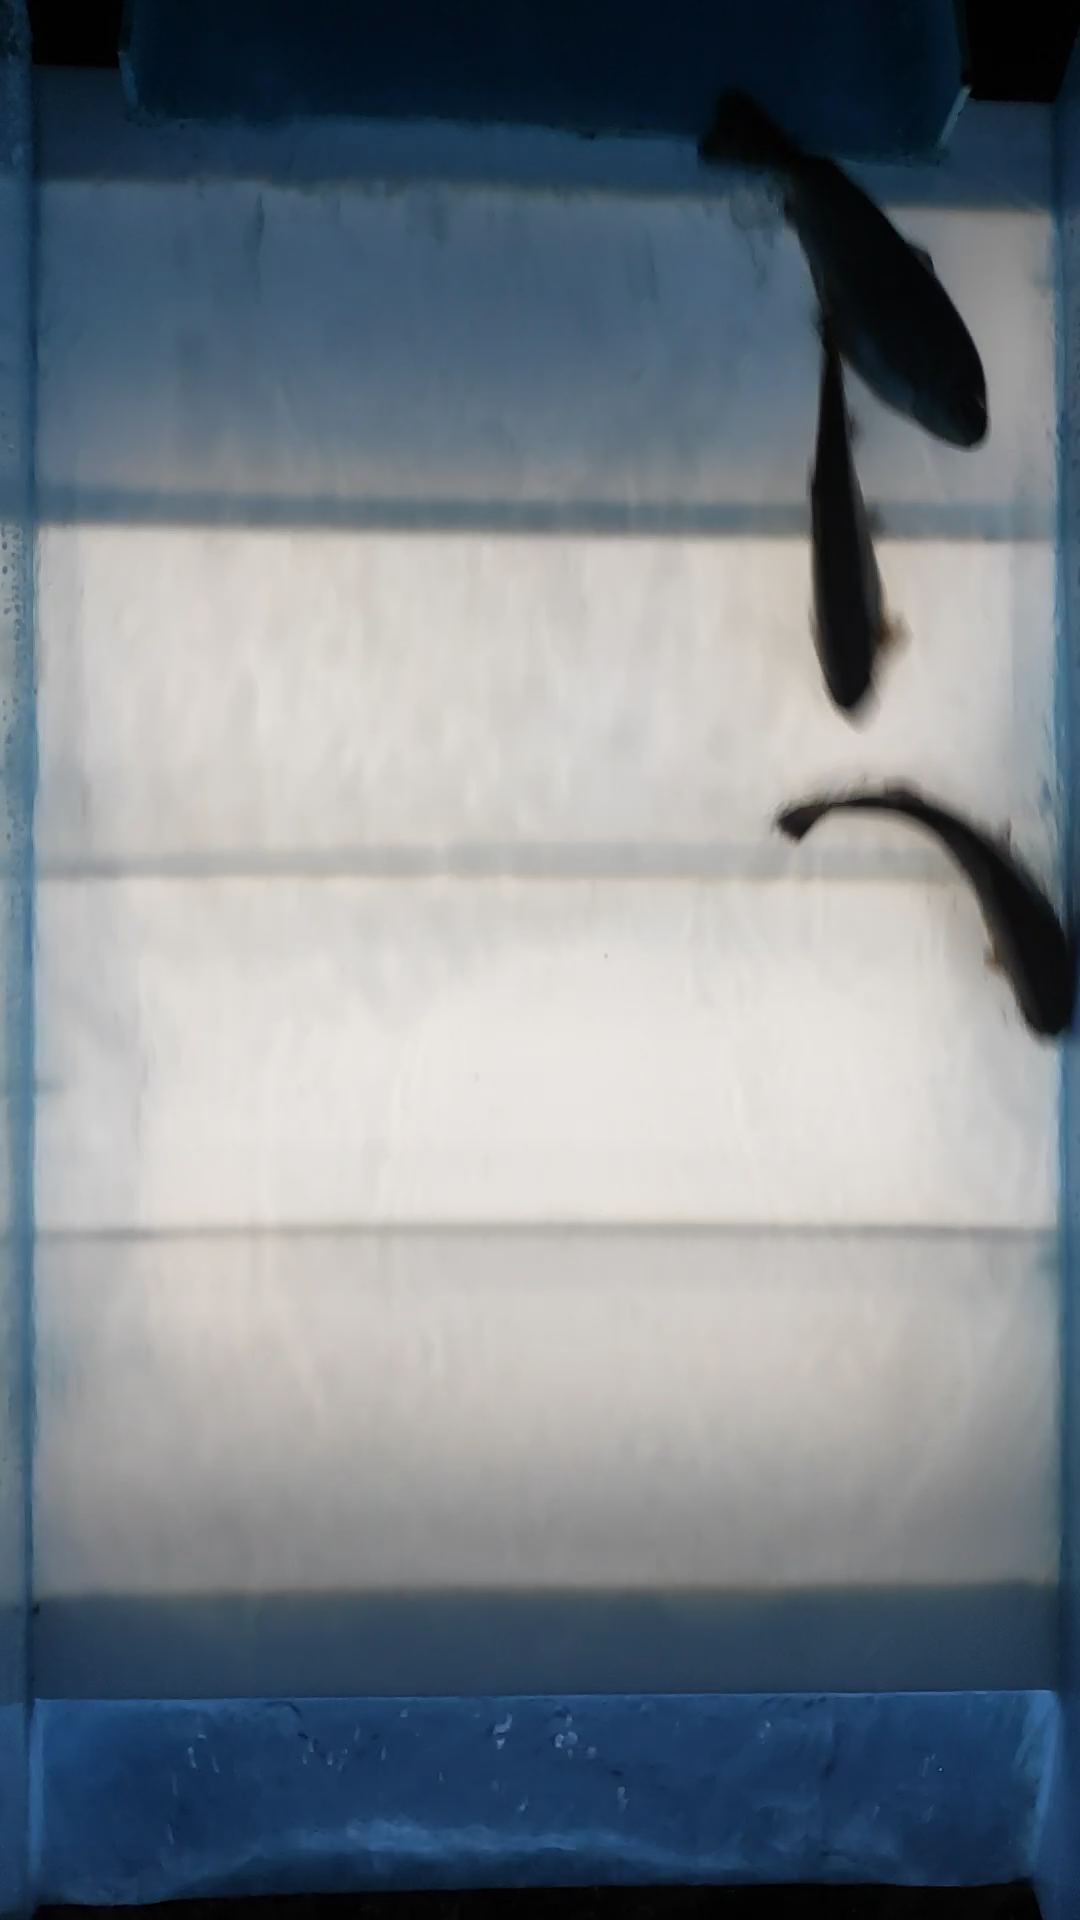fish: (686, 80, 996, 459), (769, 777, 1077, 1050), (802, 345, 893, 733)
